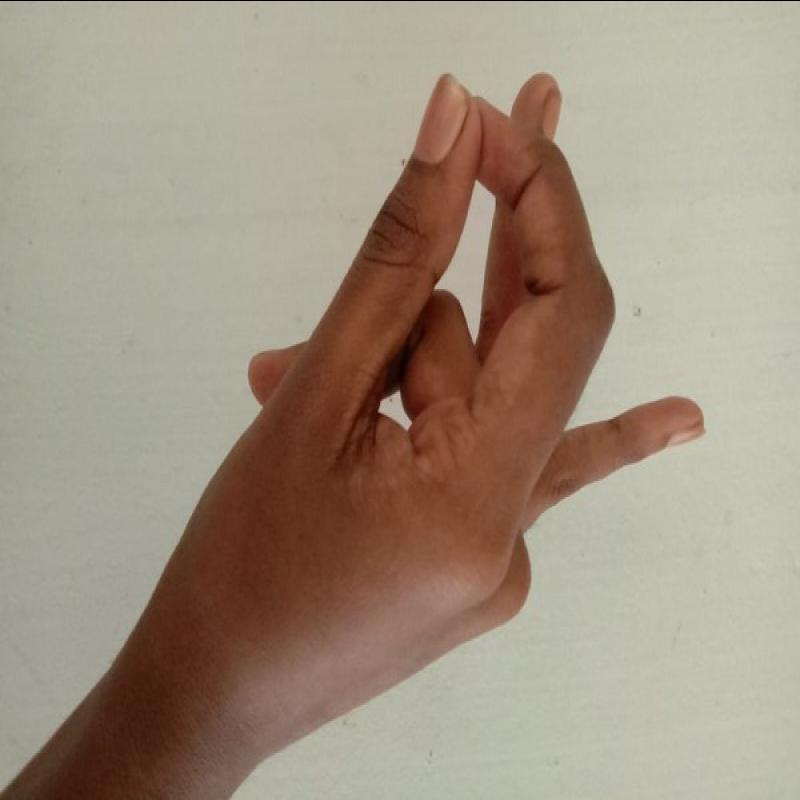Katakam: (174, 48, 713, 721)
